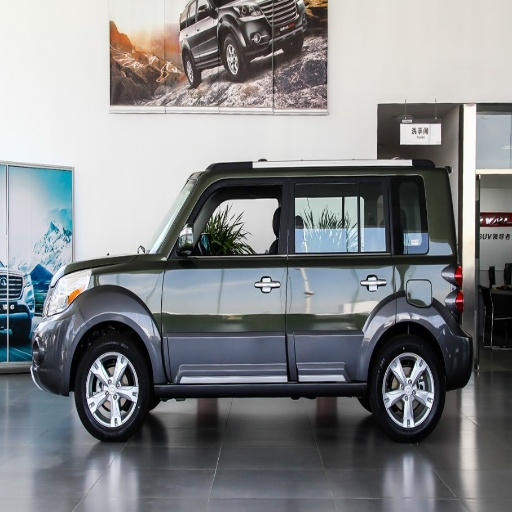back_left_door: (286, 176, 397, 377)
front_left_door: (163, 179, 289, 377)
